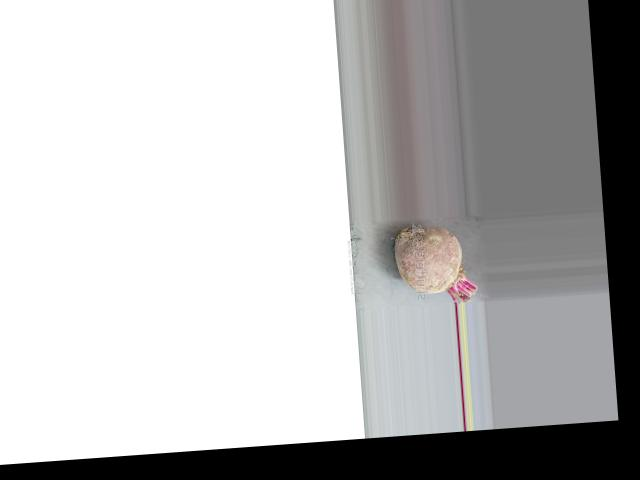beet: (393, 222, 477, 308)
